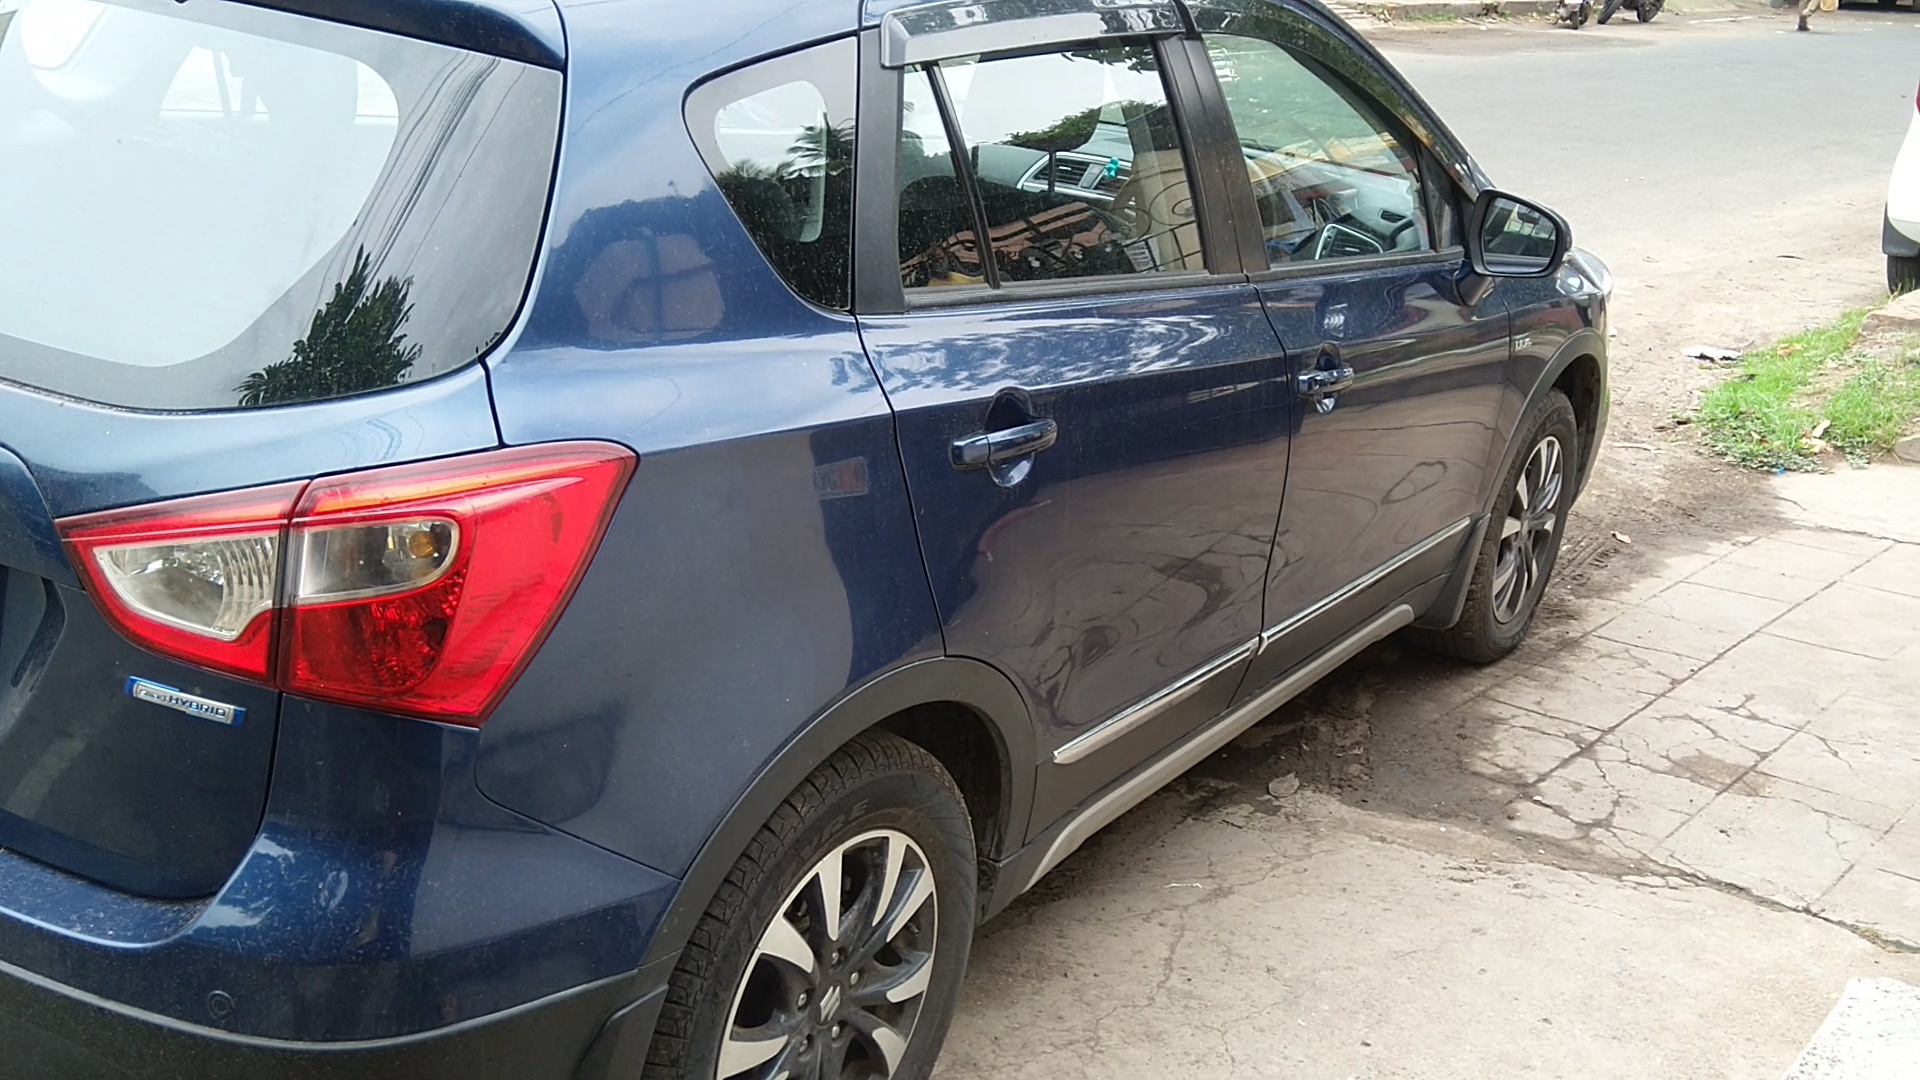alloy_wheel: (661, 735, 978, 1080), (1456, 386, 1592, 659)
shvs: (105, 659, 266, 740)
